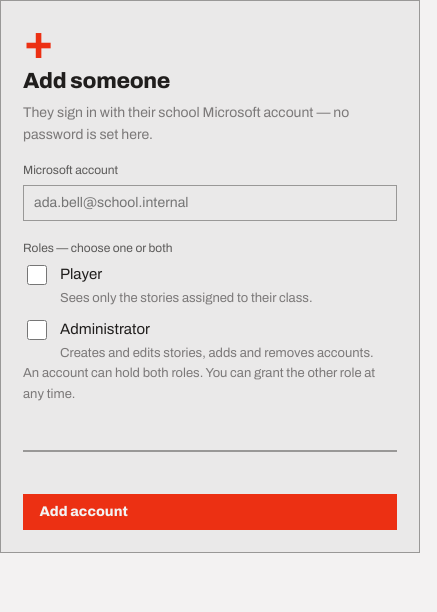
Test: AccountForm › surfaces invalid_email for a malformed email
Type "not-an-email" into the field labelled "Microsoft account" at (210, 203), box x1=23 y1=185 x2=397 y2=221
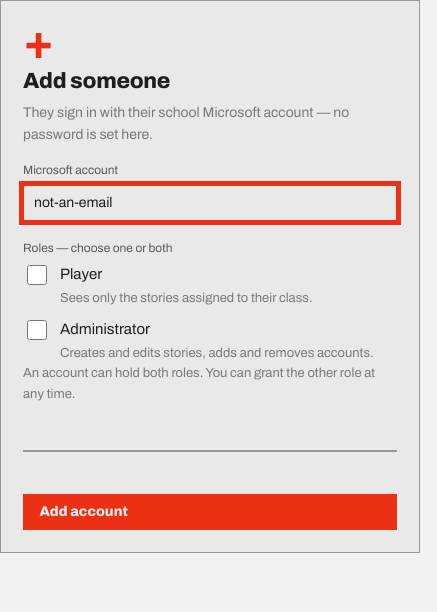
Click the checkbox labelled "Player Sees only the stories assigned to their class." at (37, 275), box x1=27 y1=265 x2=47 y2=285
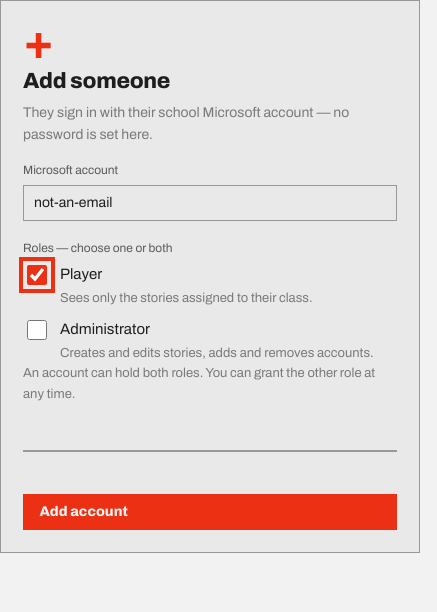
Click the button "Add account" at (84, 511), box x1=23 y1=494 x2=397 y2=530
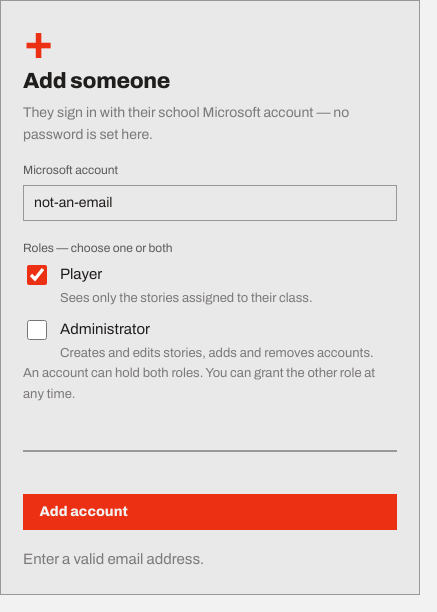
Now the message shows "valid email", box x1=23 y1=551 x2=204 y2=567
